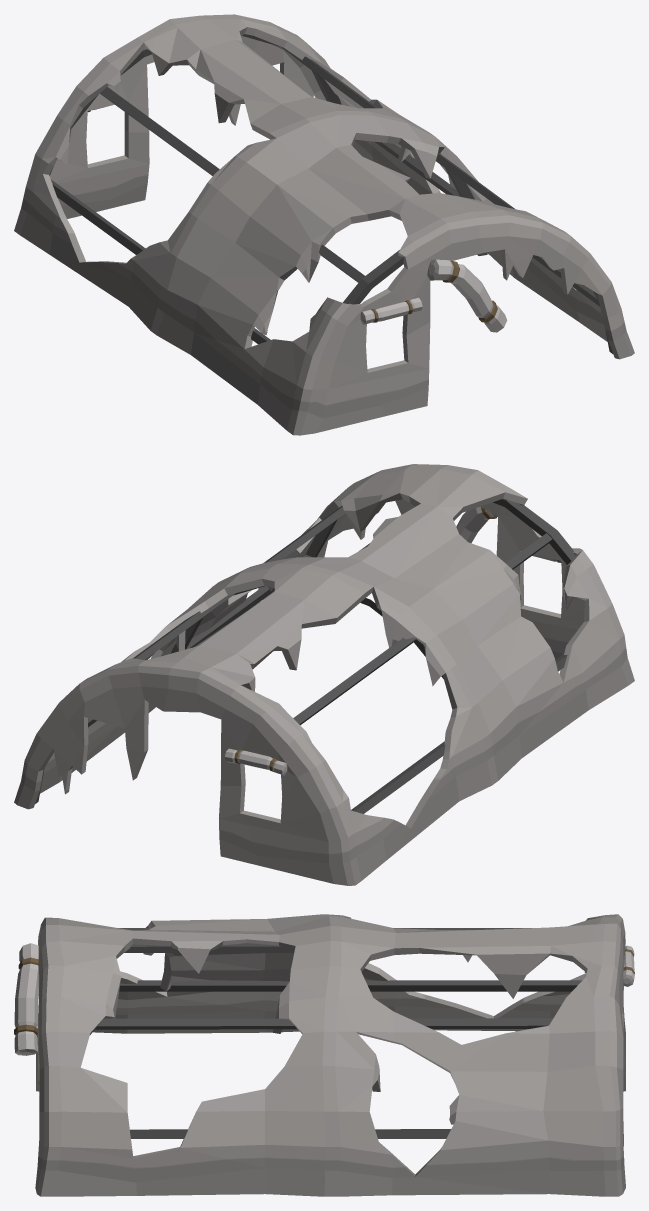
The model's file is SM_Bld_Tent_Refugee_Damaged_01.glb.
The picture shows the model from 3 angles, top to bottom: view 1: azimuth 30°, elevation 25°; view 2: azimuth 150°, elevation 25°; view 3: azimuth 270°, elevation 25°; orthographic projection. The views are drawn at different scales.
Parts seen in each view (by area): view 1: SM_Bld_Tent_Refugee_Damaged_01; view 2: SM_Bld_Tent_Refugee_Damaged_01; view 3: SM_Bld_Tent_Refugee_Damaged_01.
Boxes of the visible parts, box(x1,y1,x2,y2) form: SM_Bld_Tent_Refugee_Damaged_01: box(14, 14, 634, 435); SM_Bld_Tent_Refugee_Damaged_01: box(14, 464, 634, 885); SM_Bld_Tent_Refugee_Damaged_01: box(14, 914, 634, 1196).
Bounding box in the file's own units: 5.92 × 2.93 × 9.07.
1 material, 1 textured.
